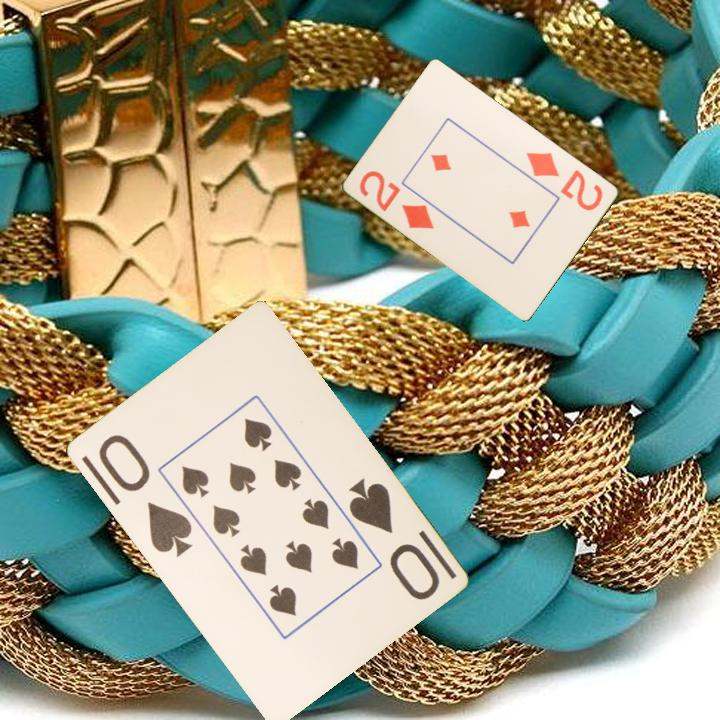10s: (94, 430, 195, 560), (344, 474, 443, 604)
2d: (523, 148, 606, 214), (356, 167, 437, 232)
